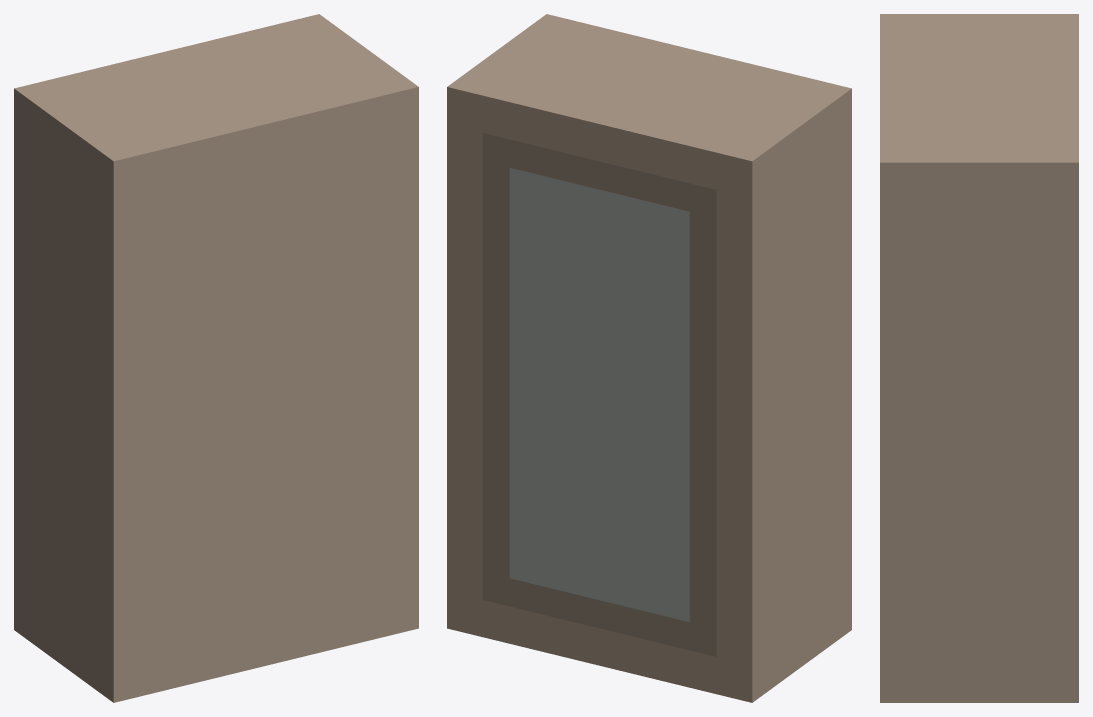
The model's file is bathroom_cabinet.glb.
The picture shows the model from 3 angles, left to right: view 1: azimuth 30°, elevation 25°; view 2: azimuth 150°, elevation 25°; view 3: azimuth 270°, elevation 25°; orthographic projection.
Parts seen in each view (by area): view 1: bathroom_cabinet; view 2: bathroom_cabinet; view 3: bathroom_cabinet.
Part boxes in pixels (x1,y1,x2,y2): bathroom_cabinet: [14, 14, 418, 702]; bathroom_cabinet: [447, 14, 851, 702]; bathroom_cabinet: [880, 14, 1078, 702].
Size of the model in its own units: 0.5013 by 0.85 by 0.2833.
